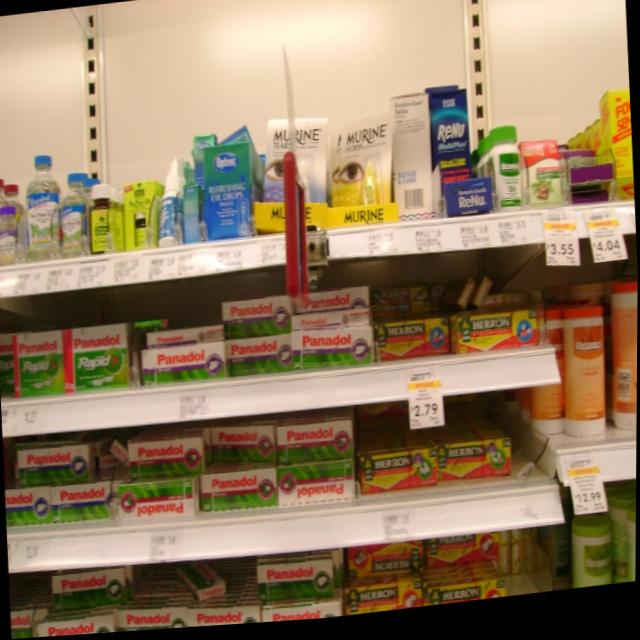q31: (125, 422, 206, 487), (274, 471, 367, 519), (48, 561, 130, 615), (281, 421, 362, 473), (142, 342, 231, 389), (15, 438, 92, 491), (295, 328, 382, 373), (70, 324, 133, 380), (259, 558, 341, 601), (295, 287, 376, 330), (116, 483, 199, 523), (207, 424, 274, 470), (197, 474, 275, 513), (56, 477, 118, 526), (222, 300, 294, 341), (16, 328, 69, 377), (233, 334, 292, 375), (189, 599, 260, 630), (268, 599, 342, 626), (126, 605, 191, 633), (33, 621, 115, 638)
